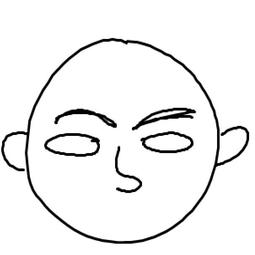ear: (213, 122, 253, 168), (1, 128, 30, 176)
empty_eye: (41, 132, 103, 160), (136, 130, 195, 155)
eyebrow: (130, 99, 198, 132), (48, 106, 120, 130)
nose: (110, 144, 143, 197)
